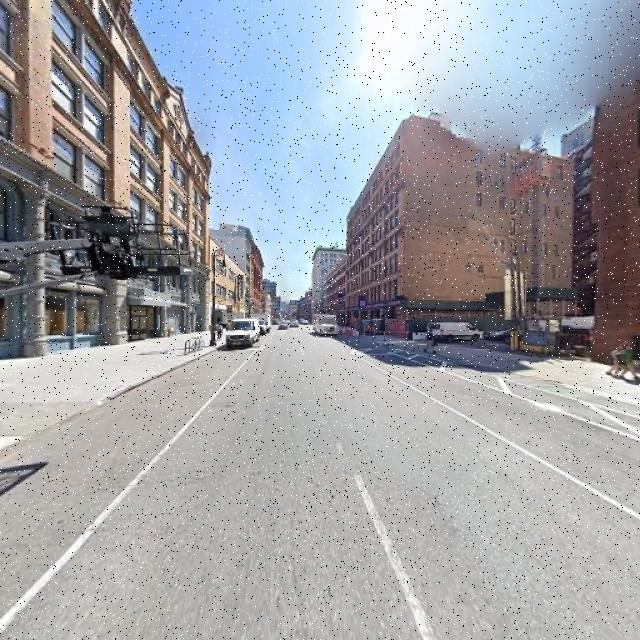Building: (1, 1, 205, 369), (327, 119, 404, 337), (600, 1, 640, 372), (208, 238, 243, 333)
